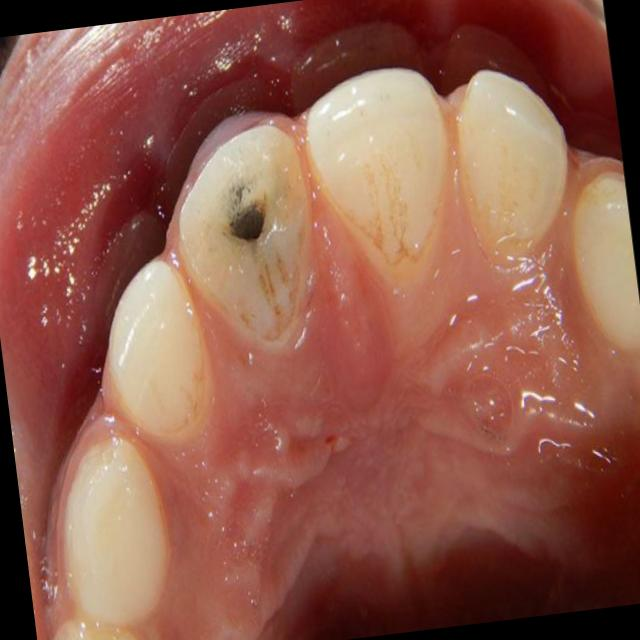Caries: (231, 206, 264, 239)
Tooth: (303, 65, 449, 280), (176, 122, 310, 349), (456, 67, 569, 259), (62, 438, 171, 626), (106, 260, 209, 440), (573, 172, 640, 350)
